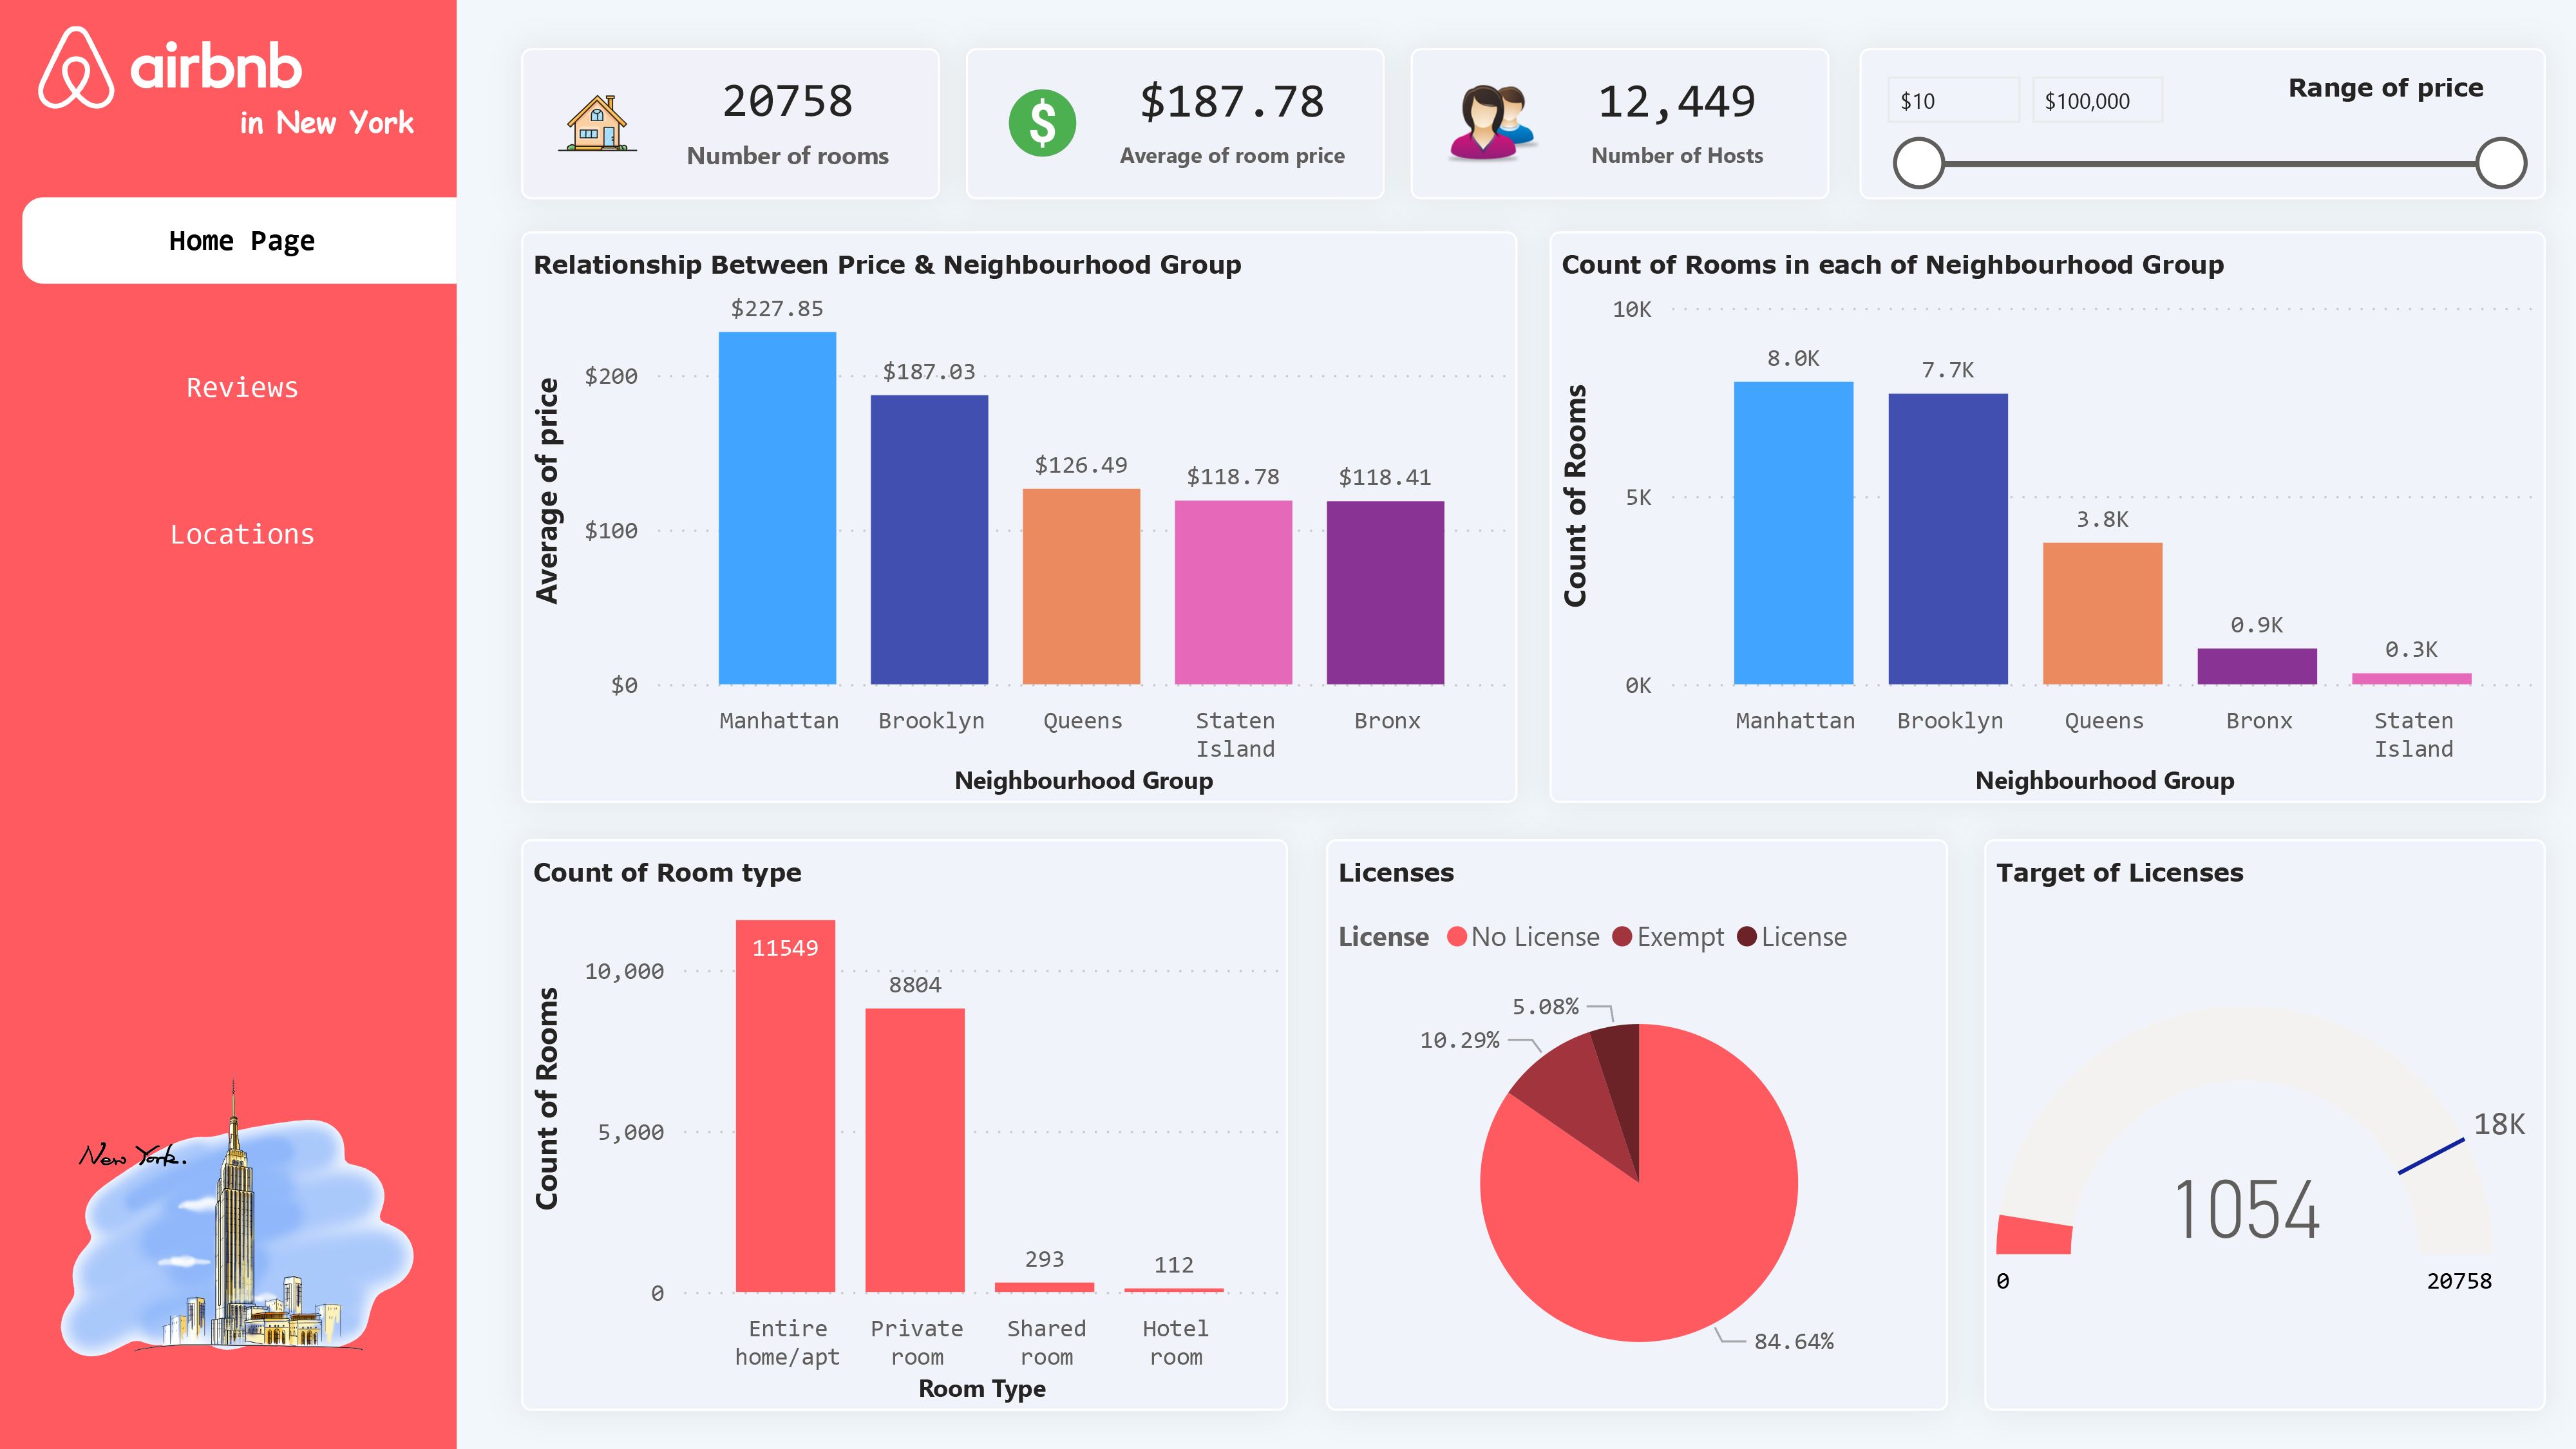

Layout of this report page (visuals, bound fields, positions):
{"tool":"powerbi","page":{"name":"Home Page","canvas":[1280,720],"ordinal":0},"visuals":[{"type":"shape","box":[0,0,227,720],"z":0,"group":"g5"},{"type":"shape","box":[701.5,23.8,208.2,75.1],"z":0,"group":"g3"},{"type":"group","id":"g1","title":"Group 1","box":[259,24,208,75],"z":0},{"type":"shape","box":[259,24,208.2,75.1],"z":0,"group":"g1"},{"type":"shape","box":[480,24,208.2,75.1],"z":0,"group":"g2"},{"type":"image","box":[10.2,8,149,51.2],"z":1000,"group":"g5"},{"type":"card","title":"Number of rooms","fields":{"Values":["CountNonNull(hosts.host_id)"]},"box":[768.6,27.2,130.8,60.3],"z":1000,"group":"g3"},{"type":"card","title":"Number of rooms","fields":{"Values":["CountNonNull(rooms.room_id)"]},"box":[326.1,27.4,130.8,60.3],"z":1000,"group":"g1"},{"type":"card","title":"Number of rooms","fields":{"Values":["Avg(rooms.room_price)"]},"box":[547.1,27.4,130.8,60.3],"z":1000,"group":"g2"},{"type":"columnChart","title":"Count of Rooms in each of Neighbourhood Group","fields":{"Category":["location.neighbourhood_group"],"Y":["CountNonNull(location.room_id)"]},"box":[770,115,495,284],"z":1000},{"type":"slicer","title":"Range of price","fields":{"Values":["main-table.price"]},"box":[923.8,23.8,341.2,75],"z":2000,"group":"g4"},{"type":"image","box":[268.1,35.4,58,51.2],"z":2000,"group":"g1"},{"type":"pageNavigator","box":[11,98,216,190],"z":2000,"group":"g5"},{"type":"columnChart","title":"Count of Room type","fields":{"Category":["rooms.room_type"],"Y":["CountNonNull(rooms.room_id)"]},"box":[259.3,417.4,381,283.2],"z":2000},{"type":"image","box":[489.1,35.4,58,51.2],"z":2001,"group":"g2"},{"type":"columnChart","title":"Relationship Between Price & Neighbourhood Group","fields":{"Category":["main-table.neighbourhood_group"],"Y":["Avg(main-table.price)"]},"box":[259,115,495,284],"z":3000},{"type":"group","id":"g2","title":"Group 2","box":[480,24,208,75],"z":4000},{"type":"pieChart","title":"Licenses","fields":{"Category":["rooms.License"],"Y":["CountNonNull(rooms.room_id)"]},"box":[658.6,417.4,309.4,283.2],"z":5000},{"type":"gauge","title":"Target of Licenses","fields":{"MaxValue":["CountNonNull(rooms.room_id)"],"Y":["rooms.Count_license"],"TargetValue":["rooms.Count_no_license"]},"box":[986.2,417.4,278.7,283.2],"z":6000},{"type":"image","box":[0,523,227,158],"z":6000,"group":"g5"},{"type":"group","id":"g3","title":"Group 4","box":[701.5,23.8,208.2,75.1],"z":7000},{"type":"group","id":"g4","title":"Group 5","box":[923.8,23.8,341.2,75],"z":8000},{"type":"group","id":"g5","title":"Group 3","box":[0,0,227,720],"z":9000},{"type":"textbox","box":[1131.6,29.1,118.8,30],"z":9001,"group":"g4"},{"type":"image","box":[713.7,31.3,57.5,60],"z":9002,"group":"g3"},{"type":"textbox","box":[113.8,45,106.2,32.5],"z":9003,"group":"g5"}]}

Visuals, with their boxes in screenshot pixels (x1, y1, x2, y2), scaled from the page's 1280x720 canvas onto the 2576x1449 screenshot:
shape: 0:0:457:1448
shape: 1412:48:1831:199
"Group 1" group: 521:48:940:199
shape: 521:48:940:200
shape: 966:48:1385:200
image: 21:16:320:119
"Number of rooms" card: 1547:55:1810:176
"Number of rooms" card: 656:55:920:176
"Number of rooms" card: 1101:55:1364:176
"Count of Rooms in each of Neighbourhood Group" columnChart: 1549:231:2546:803
"Range of price" slicer: 1859:48:2546:199
image: 540:71:656:175
pageNavigator: 22:197:457:580
"Count of Room type" columnChart: 522:840:1289:1410
image: 984:71:1101:175
"Relationship Between Price & Neighbourhood Group" columnChart: 521:231:1517:803
"Group 2" group: 966:48:1385:199
"Licenses" pieChart: 1325:840:1948:1410
"Target of Licenses" gauge: 1985:840:2546:1410
image: 0:1052:457:1370
"Group 4" group: 1412:48:1831:199
"Group 5" group: 1859:48:2546:199
"Group 3" group: 0:0:457:1448
textbox: 2277:59:2516:119
image: 1436:63:1552:184
textbox: 229:91:443:156
